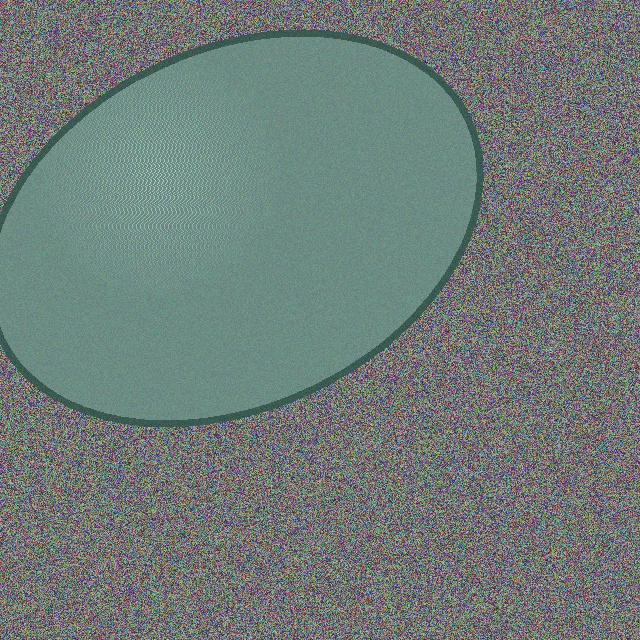lens: (0, 33, 479, 423)
